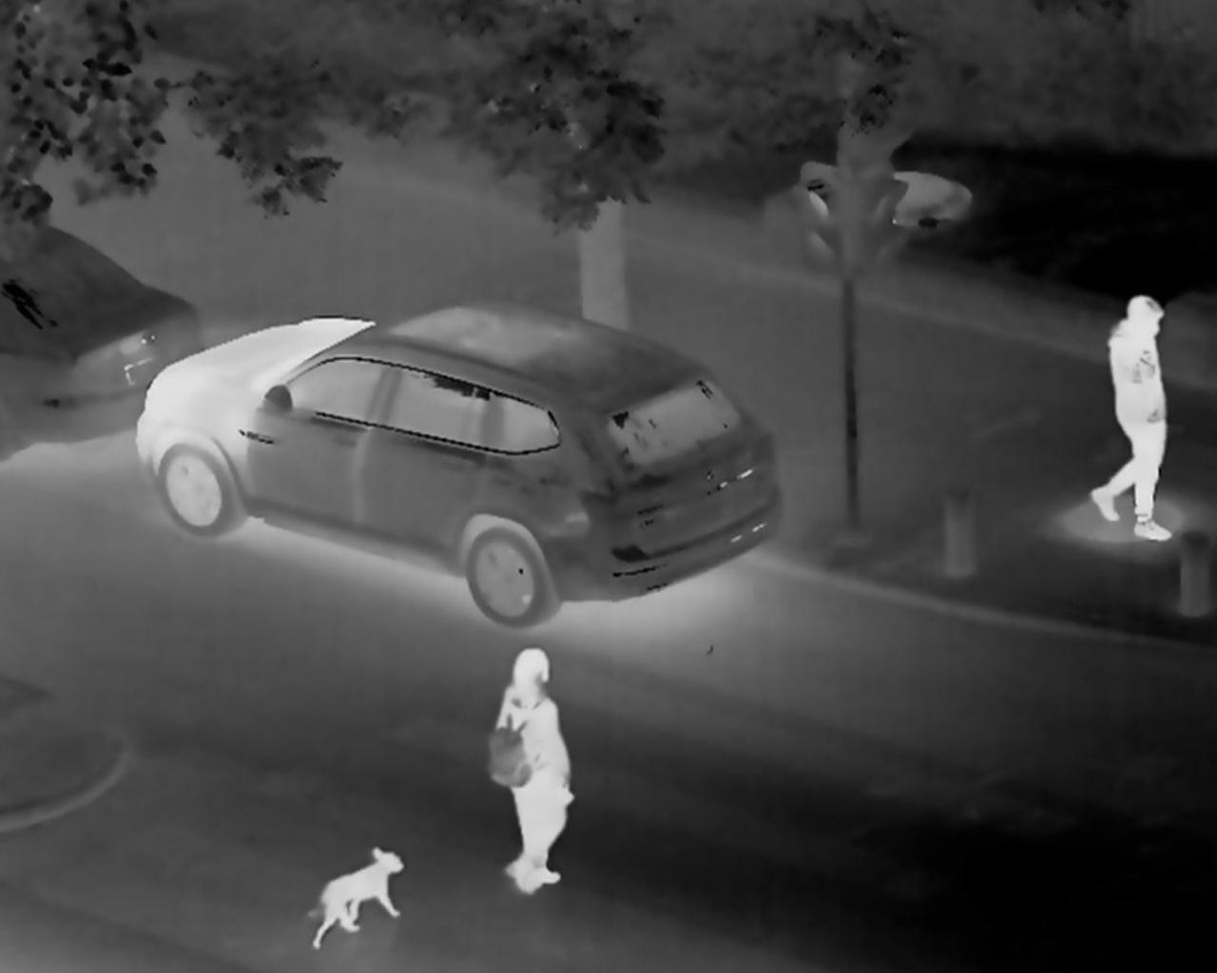person: (483, 637, 575, 898), (1093, 293, 1177, 546)
